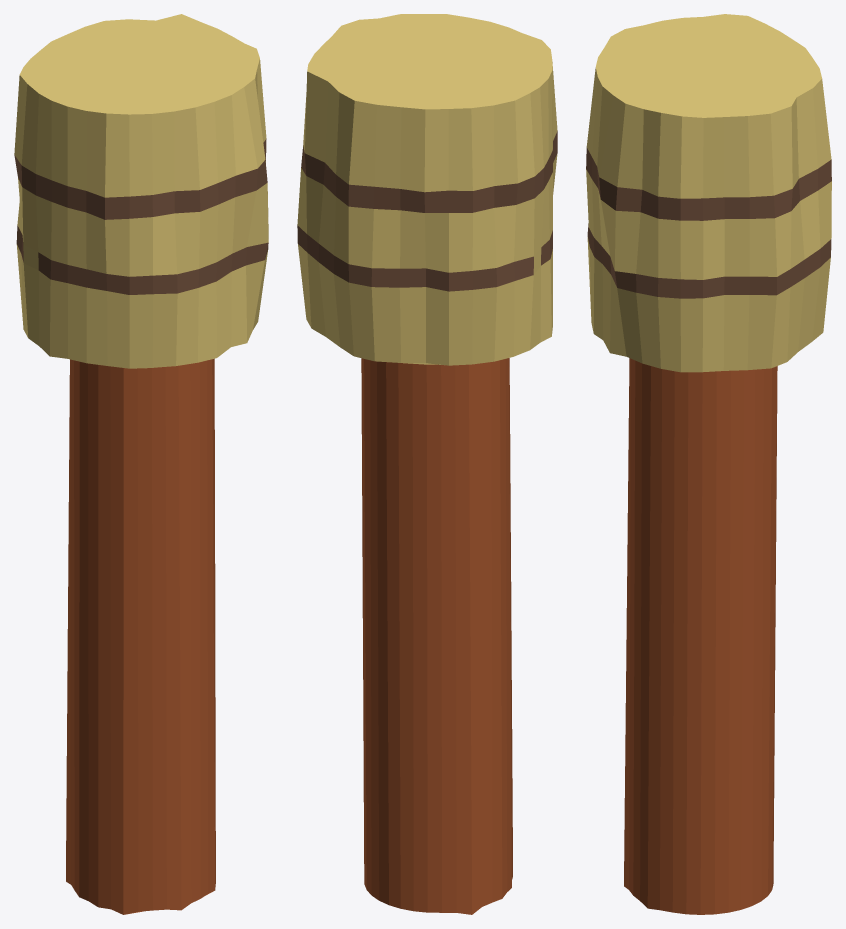
Rendered from Torch.fbx.
3 views of the same model, side by side, from view 1: azimuth 30°, elevation 25°; view 2: azimuth 150°, elevation 25°; view 3: azimuth 270°, elevation 25° (orthographic).
Parts seen in each view (by area): view 1: Cylinder; view 2: Cylinder; view 3: Cylinder.
Boxes of the visible parts, x1,y1,x2,y2 form: Cylinder: [14, 14, 268, 914]; Cylinder: [297, 14, 557, 914]; Cylinder: [586, 14, 831, 914].
Bounding box in the file's own units: 42.84 × 154 × 41.71.
